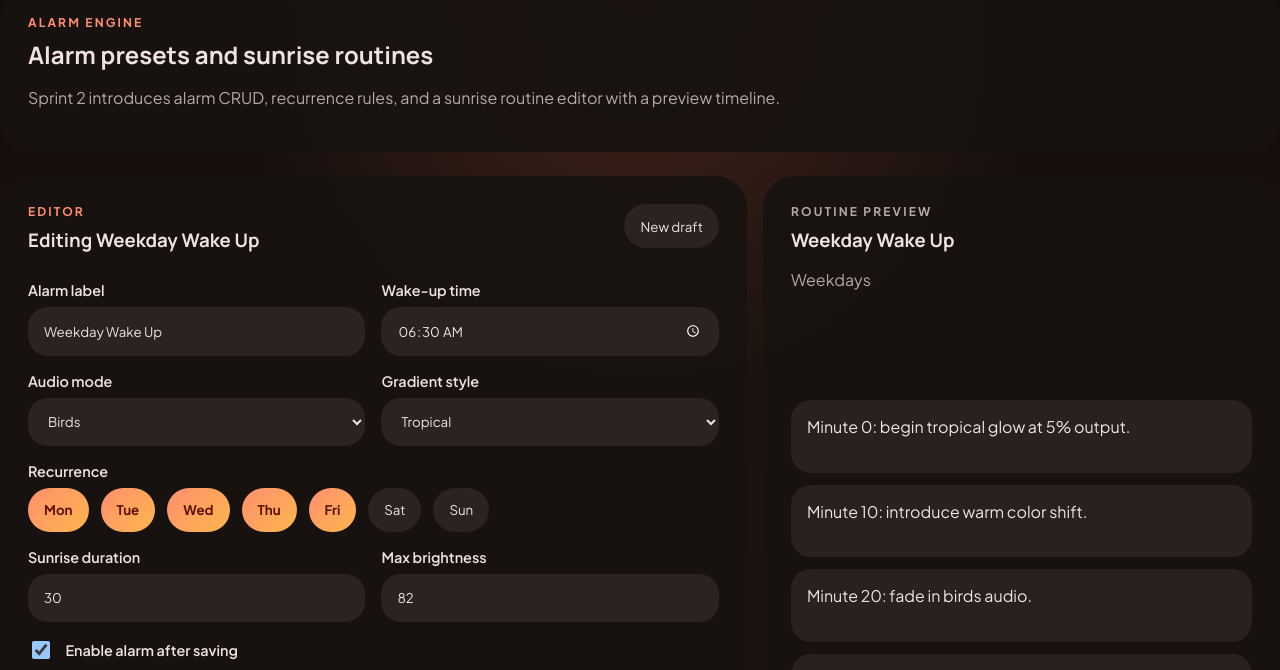
Test: AlarmsPage › creates a new alarm from the draft form
Click the button "New draft". click: (672, 226)
box: [624,204,719,248]
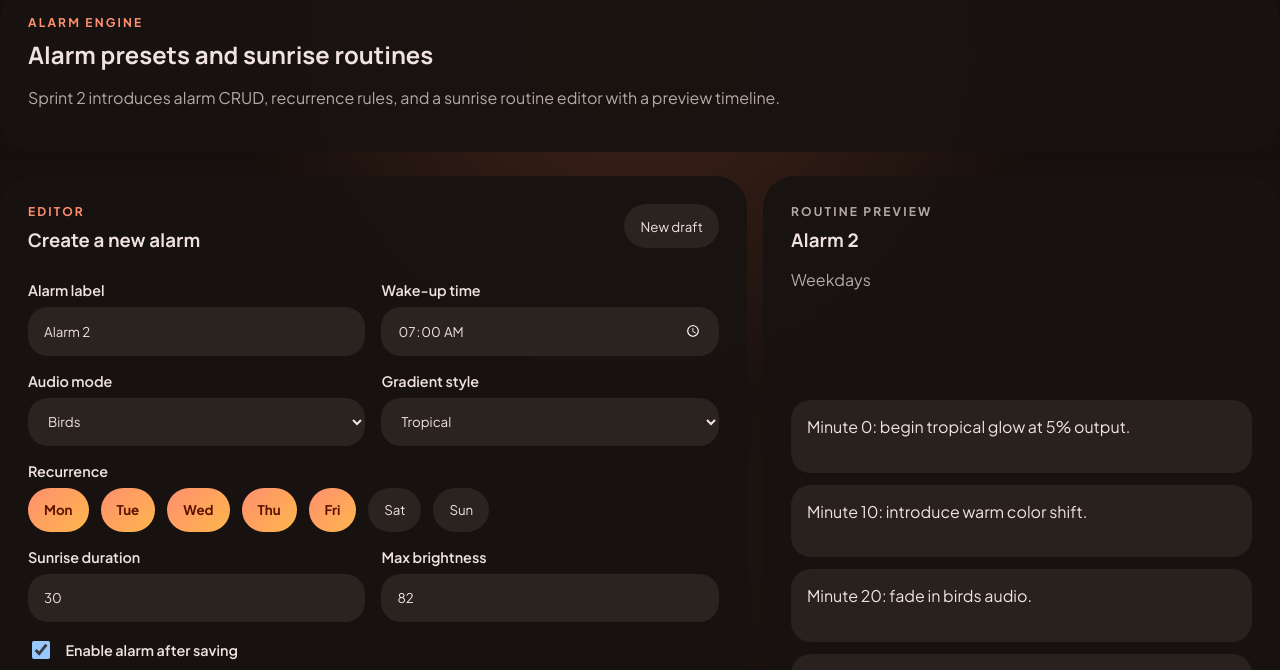
Replace the text in the field showing "Alarm 2" with "Gym Sunrise". click: (197, 332)
box: [28,307,366,356]
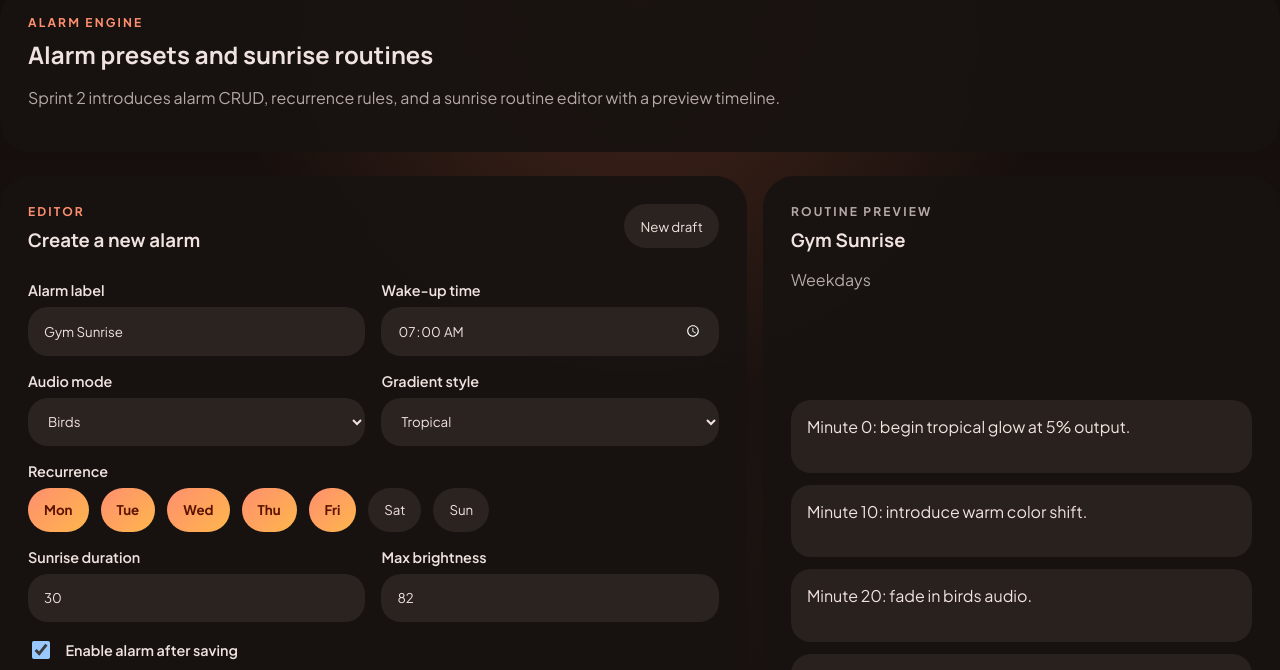
Replace the text in the time field showing "07:00" with "05:45". click: (550, 331)
box: [382,307,719,356]
(page scrolled)
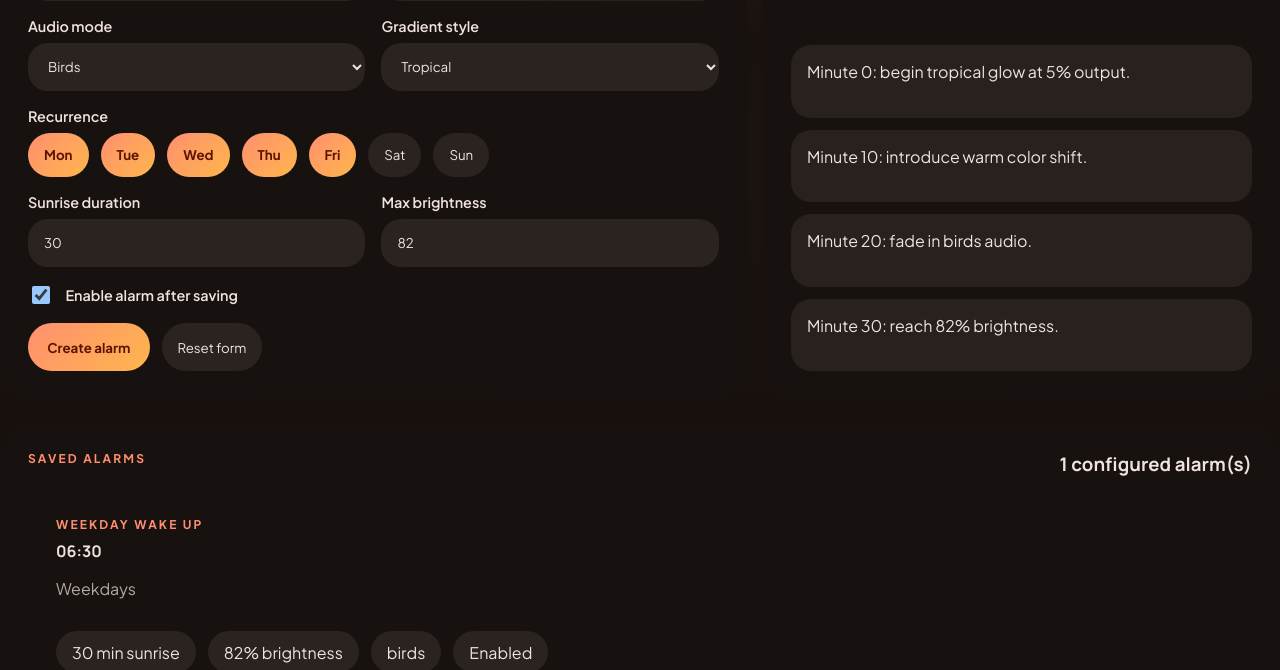
Click the button "Create alarm". click: (89, 347)
box: [28,323,150,371]
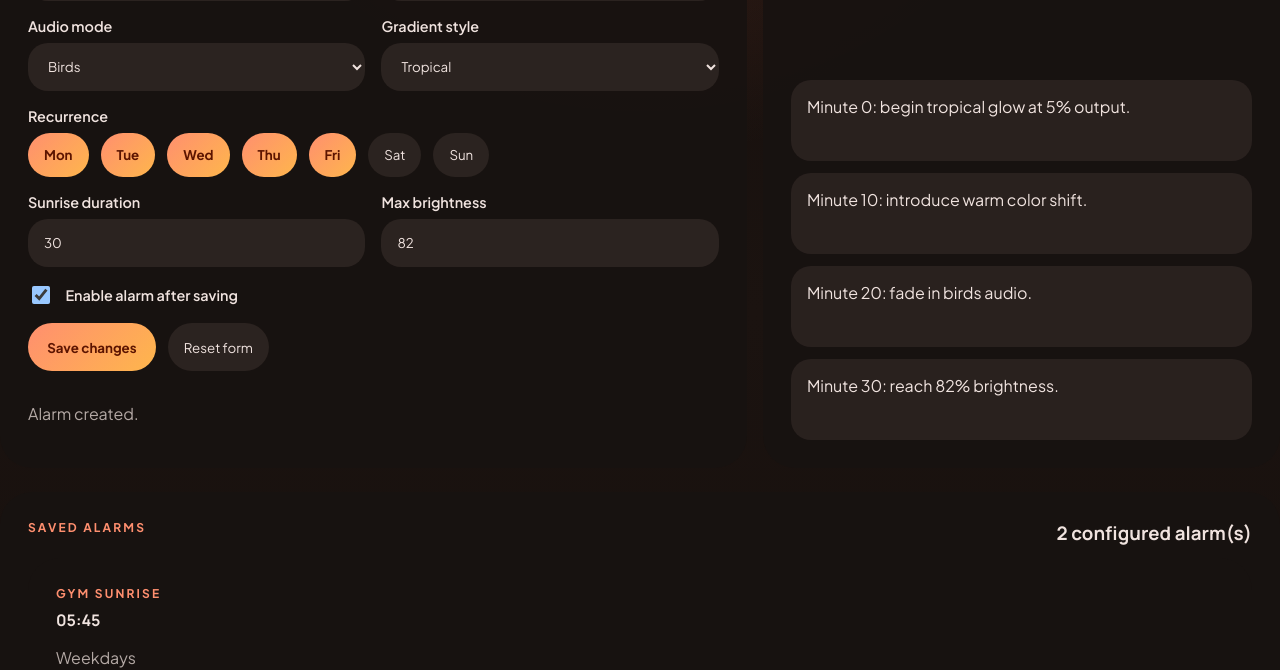
Result: the message reads "Alarm created." at [28,403,139,424]
